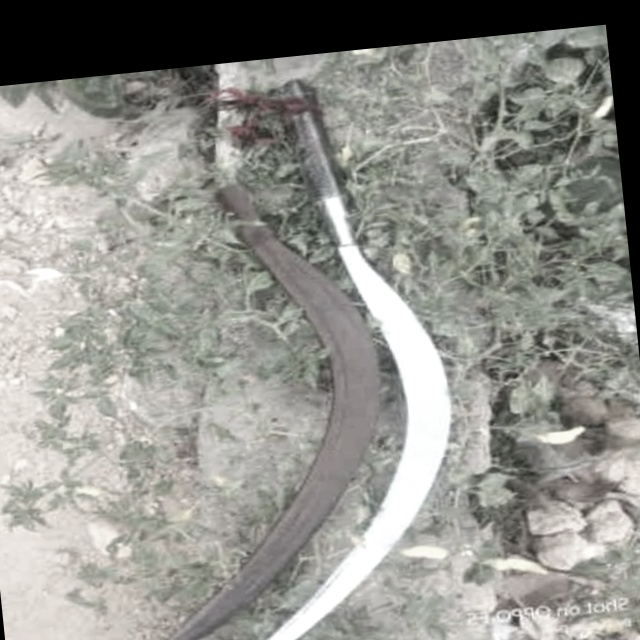Sharp-Object: (181, 71, 470, 640)
